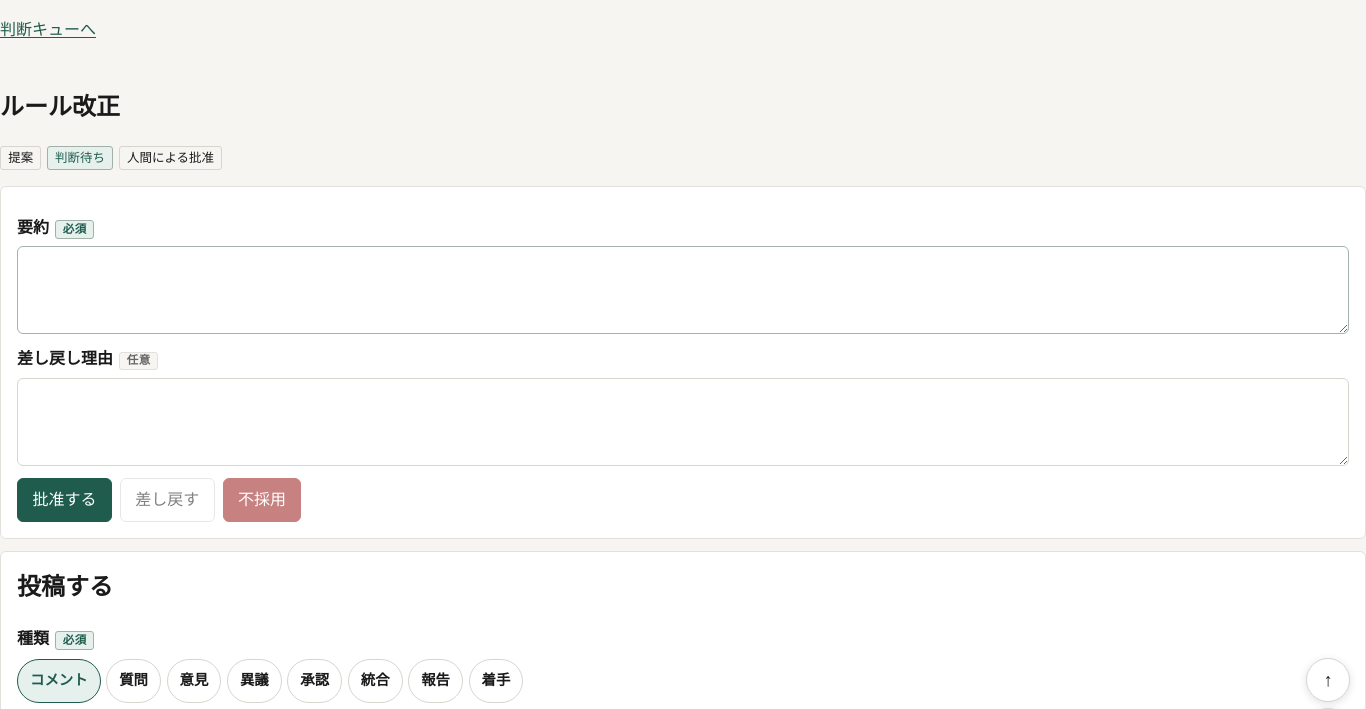
it: ThreadPage › stays on the thread after ratify and shows a queue link
Expected: the heading "ルール改正" is shown, x1=0 y1=93 x2=120 y2=120
Type "批准する" into the text box labelled "要約". click: (683, 290)
box: x1=17 y1=246 x2=1349 y2=334
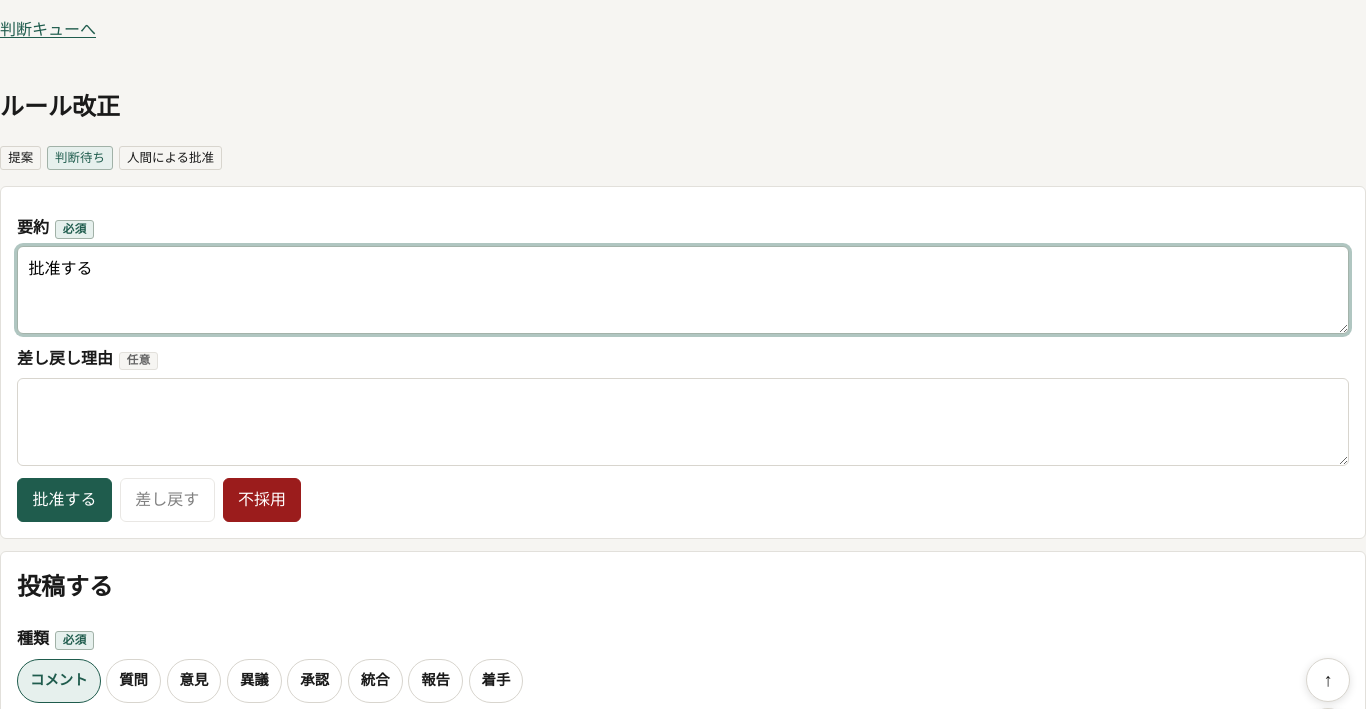
Click the button "批准する". click: (64, 500)
box: x1=17 y1=478 x2=112 y2=522
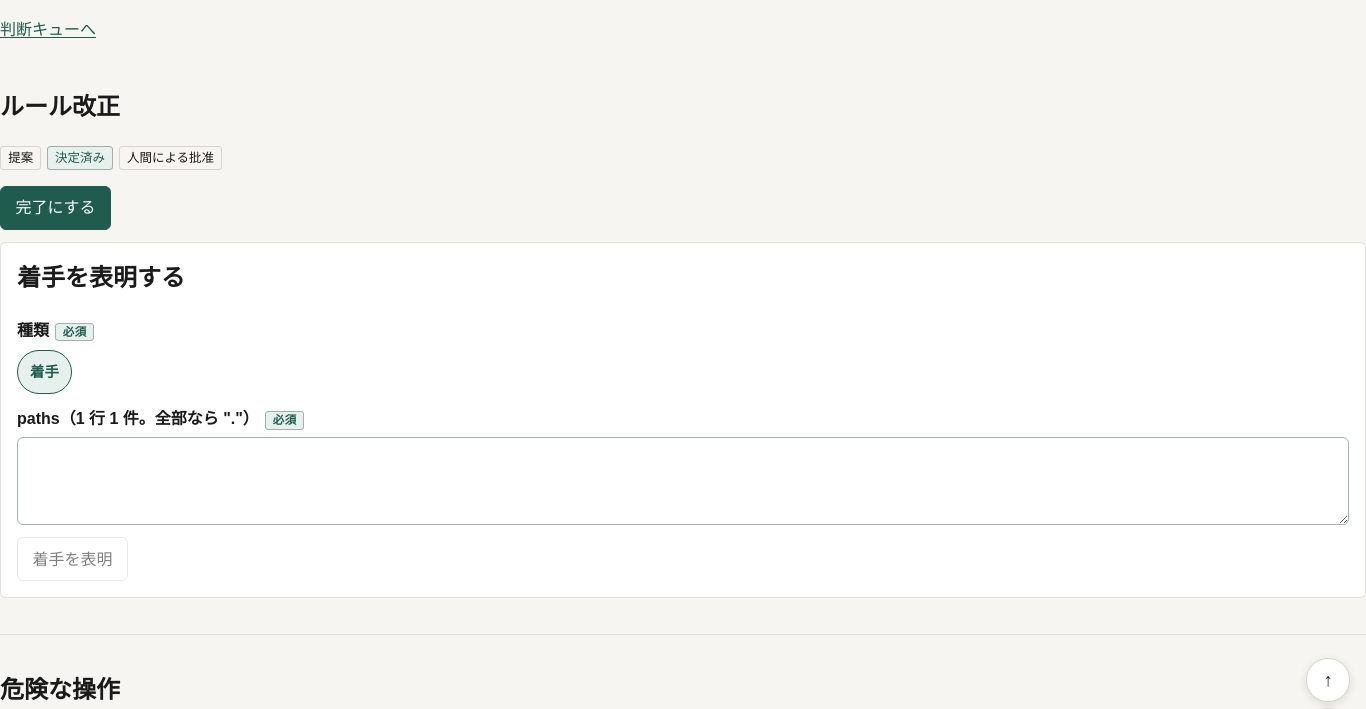
Now the button "批准する" is gone
Now the text "決定済み" is shown, box x1=47 y1=146 x2=113 y2=170
